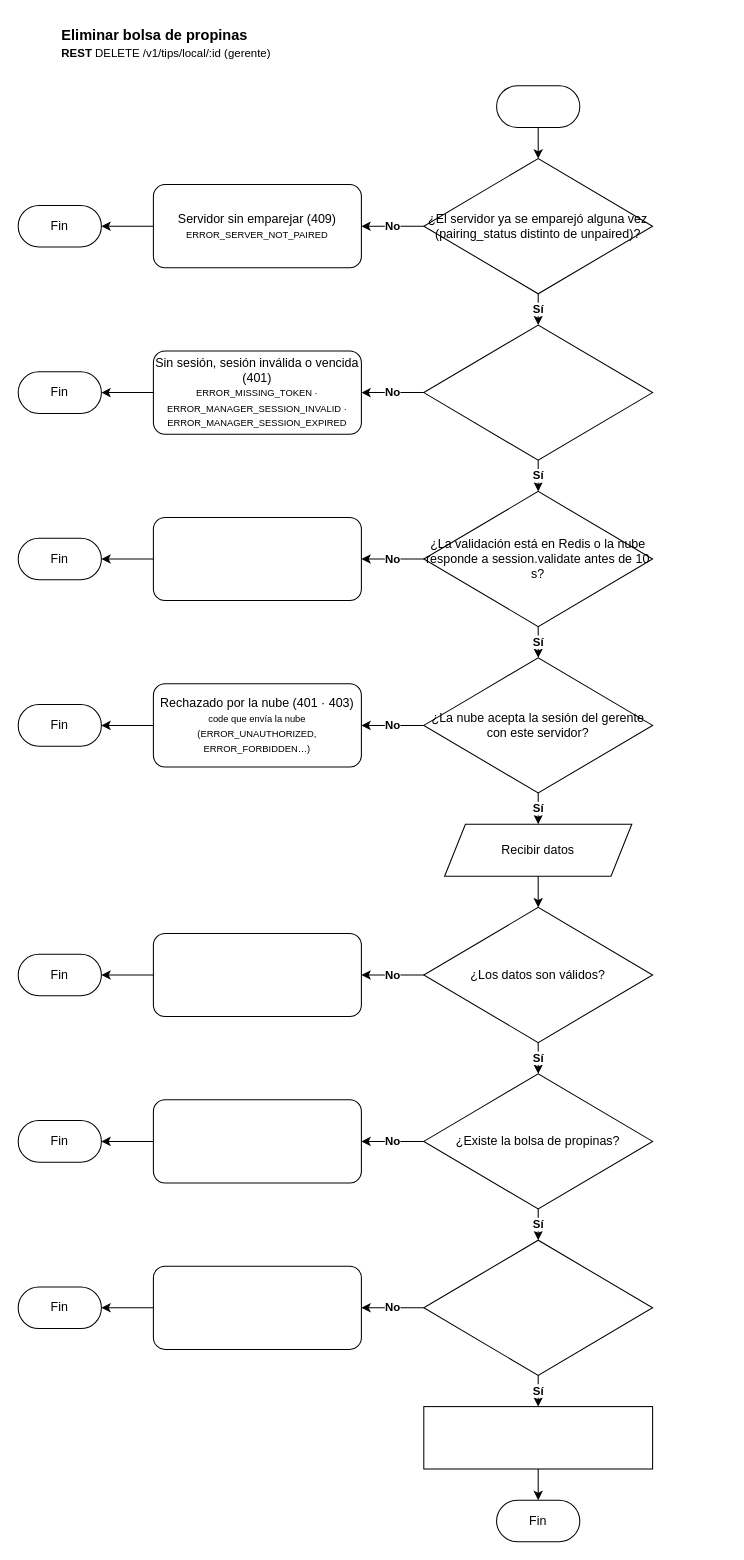
This 744x1560 diagram has some shape labels left out. The centre of each missing label's shape, as x and y in pixels:
"Datos inválidos (400) ERROR_BAD_REQUEST" goes at point 256,974.
"Inicio" goes at point 538,106.
"La bolsa de propinas no está abierta (409) ERROR_TIP_POOL_NOT_OPEN" goes at point 256,1307.
"La nube no responde (503) ERROR_CLOUD_UNAVAILABLE · ERROR_SERVER_UNLINKED" goes at point 256,558.
"No se encontró la bolsa de propinas (404) ERROR_TIP_POOL_NOT_FOUND" goes at point 256,1141.
"Responder 200 con el mensaje POOL_DELETED" goes at point 538,1437.
"¿La bolsa está abierta?" goes at point 538,1307.
"¿Trae una sesión de gerente válida (Bearer mss_..., sin 30 min de inactividad)?" goes at point 538,392.
